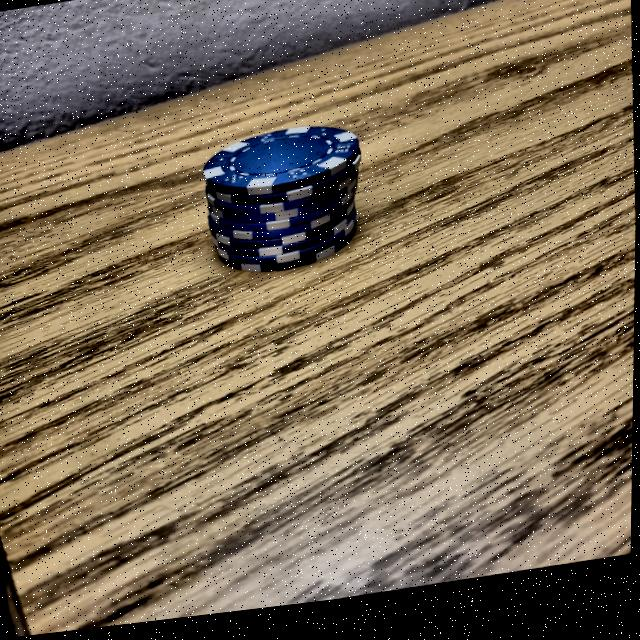Chip: (199, 104, 372, 299)
